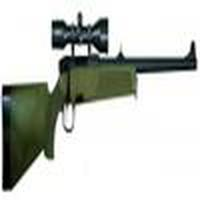gun: (1, 19, 200, 172)
